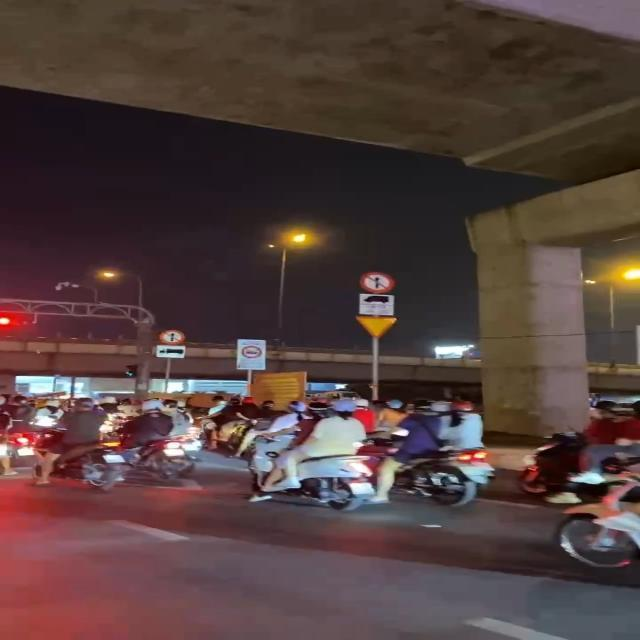136-cam-di-thang: (359, 272, 397, 293), (160, 330, 188, 344)
208-giao-nhau-voi-duong-uu-tien: (356, 318, 398, 338)
